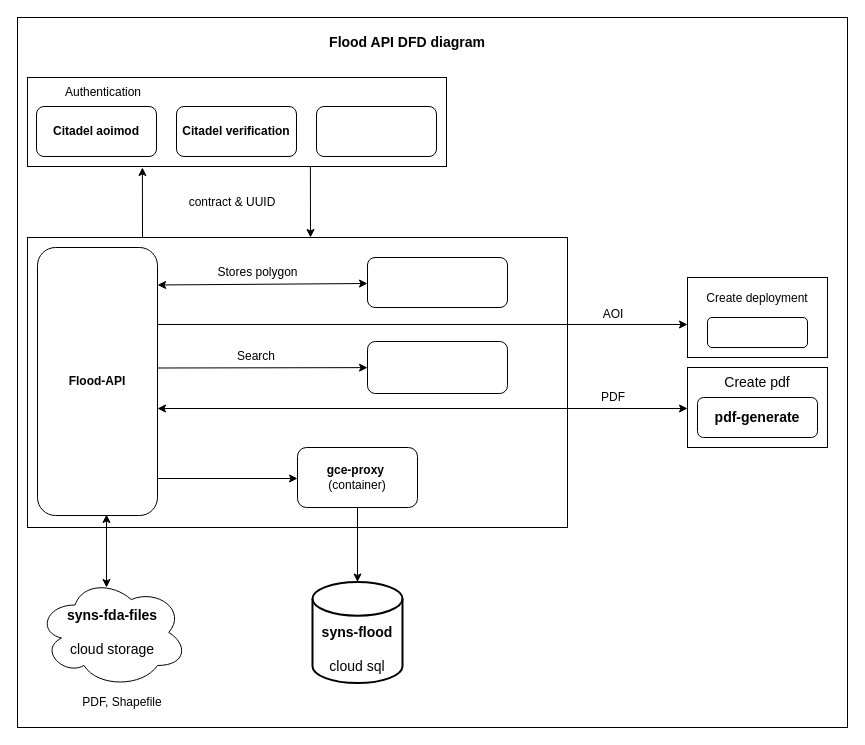
The diagram is 865 pixels wide and 745 high, and some of its shapes have lost their labels. The centre of each missing label's shape, as x and y in pixels:
"ARM" goes at point (757, 332).
"Citadel notification" goes at point (376, 131).
"ShapeDB" goes at point (437, 282).
"syns-flood-datasearch" goes at point (437, 367).
